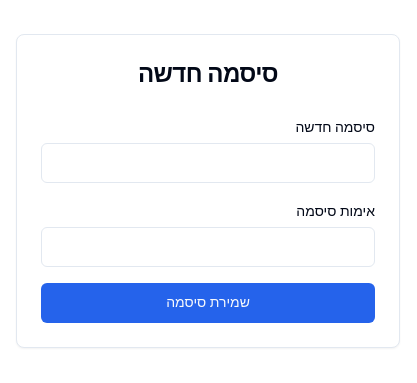
ResetPasswordPage › shows an error when Supabase rejects the update
Step 1. Type "secret123" into the password field labelled "סיסמה חדשה" → (208, 163), box [41,143,375,183]
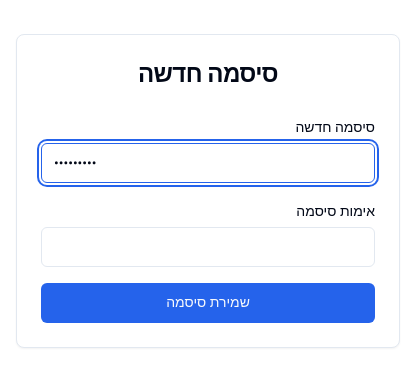
Step 2. Type "secret123" into the password field labelled "אימות סיסמה" → (208, 247), box [41,227,375,267]
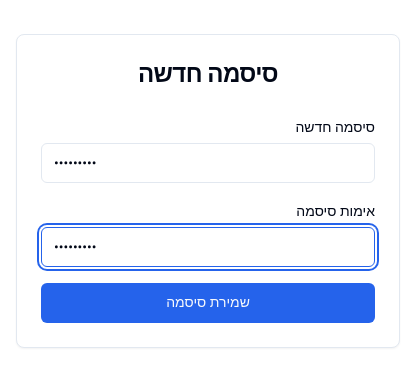
Step 3. Click the button "שמירת סיסמה" → click(208, 303), box [41,283,375,323]
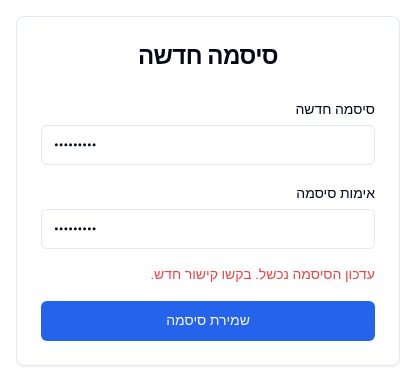
Check: the message shows "עדכון הסיסמה נכשל", box [150,264,375,285]
